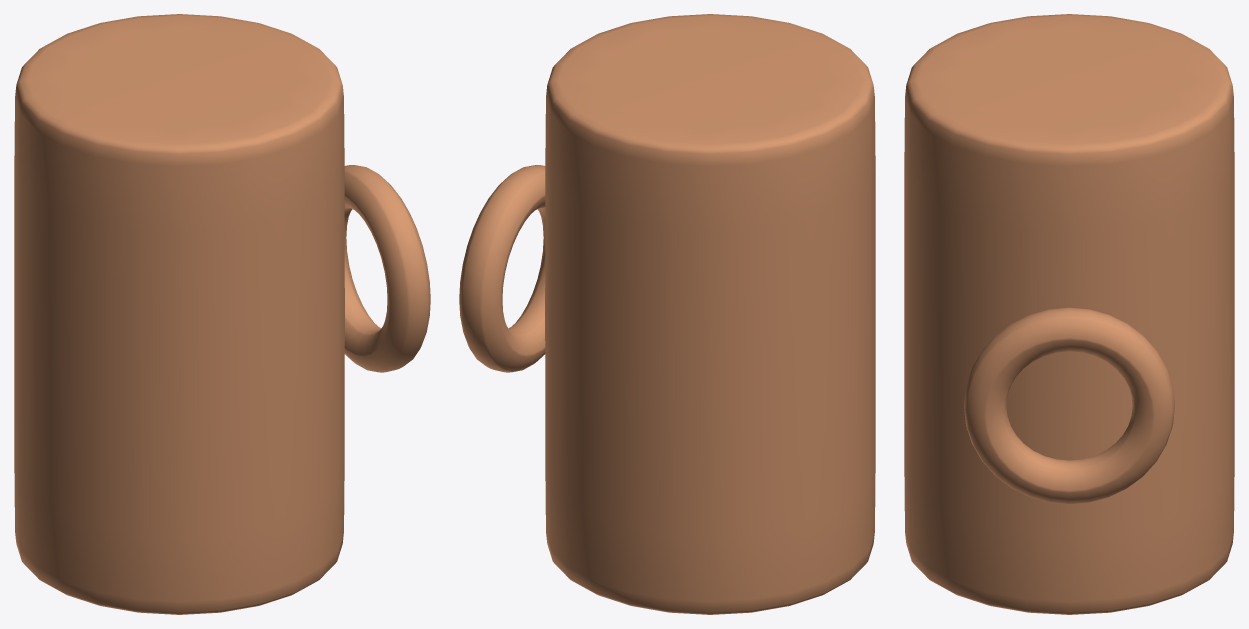
The model's file is coffee_mug.glb.
3 views of the same model, side by side, from view 1: azimuth 30°, elevation 25°; view 2: azimuth 150°, elevation 25°; view 3: azimuth 270°, elevation 25° (orthographic).
Visible parts, largest first — view 1: coffee_mug; view 2: coffee_mug; view 3: coffee_mug.
Boxes of the visible parts, box(x1,y1,x2,y2) form: coffee_mug: box(14, 14, 430, 614); coffee_mug: box(459, 14, 875, 614); coffee_mug: box(904, 14, 1234, 614).
Bounding box in the file's own units: 0.4669 × 0.5998 × 0.382.
